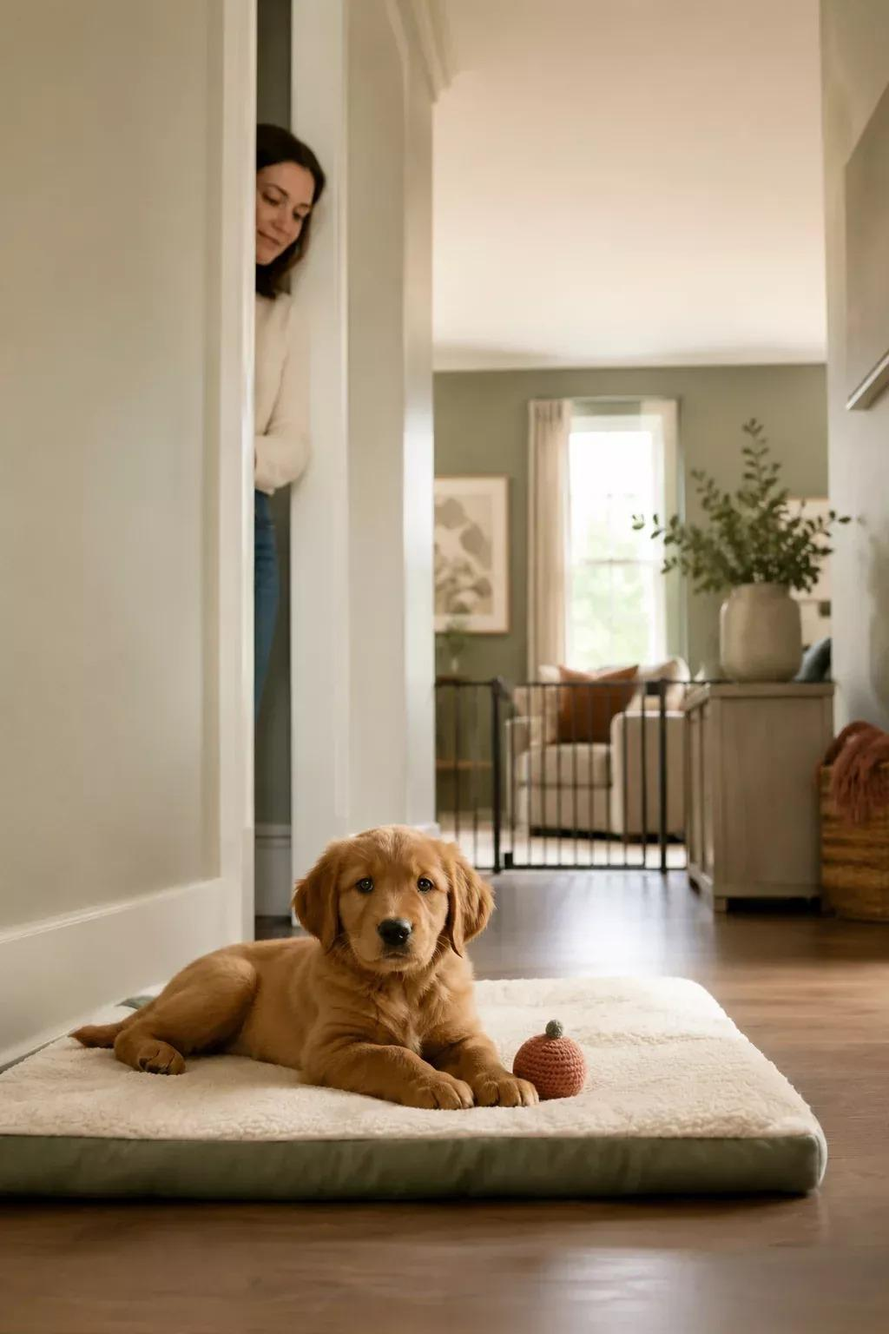non-dog: (246, 118, 328, 731)
puppy-dog: (66, 822, 539, 1111)
